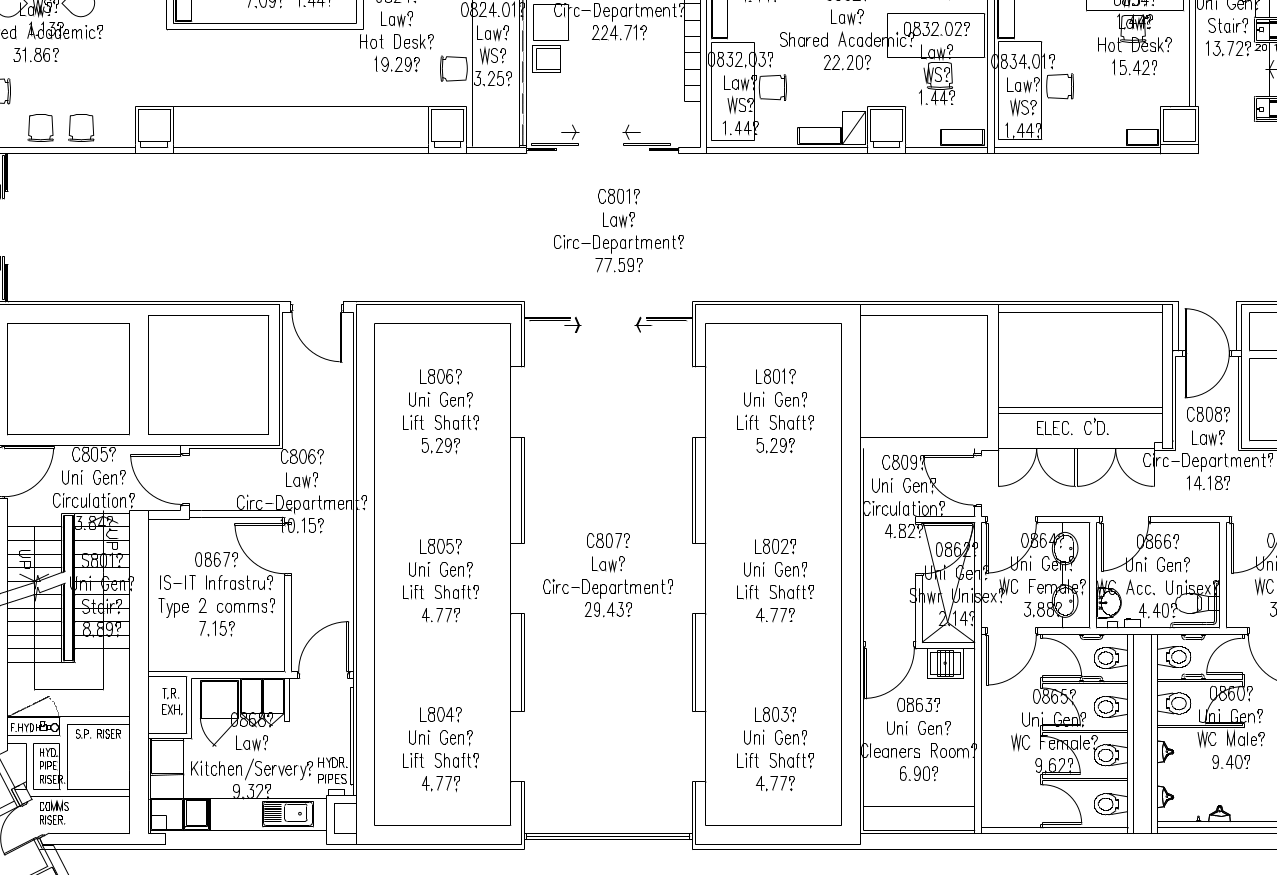door: (1178, 298, 1233, 402), (1099, 502, 1153, 572), (985, 508, 1039, 578), (985, 622, 1039, 692), (863, 633, 917, 703), (293, 617, 352, 680), (288, 307, 347, 370), (919, 446, 978, 509), (1228, 508, 1277, 581), (1, 444, 59, 499), (125, 449, 183, 504), (229, 520, 287, 575), (1, 798, 46, 857), (1042, 782, 1089, 826), (1040, 735, 1087, 779), (1040, 682, 1087, 726), (1040, 639, 1087, 683), (1201, 634, 1248, 678), (1200, 682, 1247, 726)
